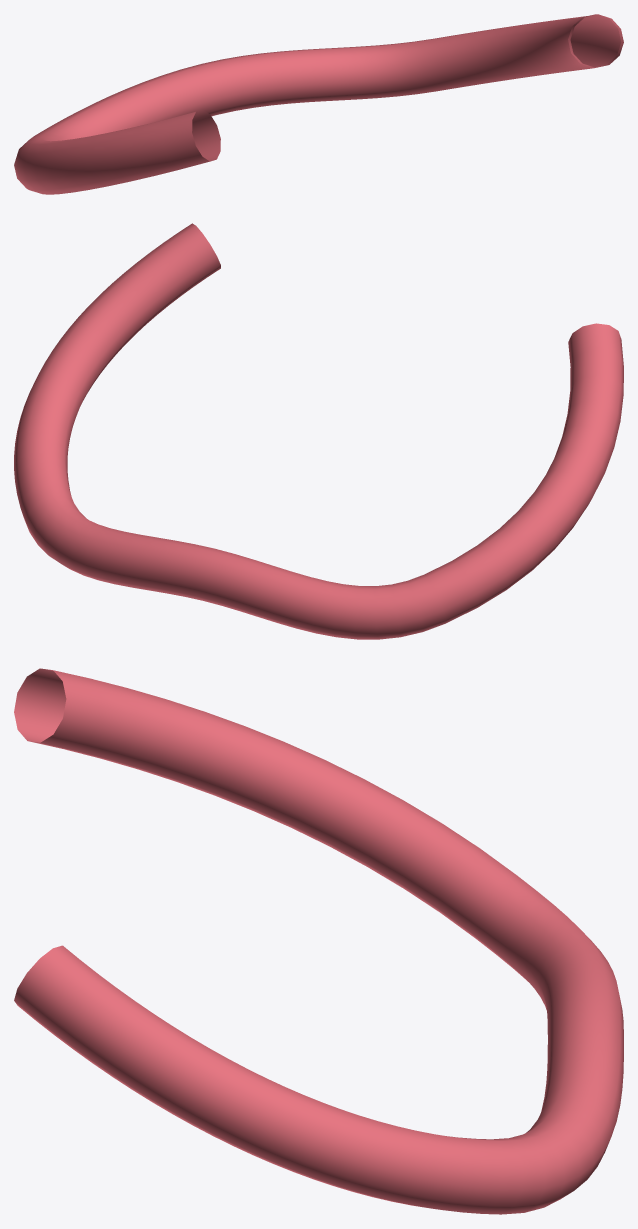
3 renders of one model, top to bottom at view 1: azimuth 30°, elevation 25°; view 2: azimuth 150°, elevation 25°; view 3: azimuth 270°, elevation 25°, orthographic. The views are drawn at different scales.
Parts seen in each view (by area): view 1: ZA_9e047f59c0c1c7b1; view 2: ZA_9e047f59c0c1c7b1; view 3: ZA_9e047f59c0c1c7b1.
Boxes of the visible parts, x1,y1,x2,y2 form: ZA_9e047f59c0c1c7b1: (14,14,623,194); ZA_9e047f59c0c1c7b1: (14,223,623,639); ZA_9e047f59c0c1c7b1: (14,668,623,1214).
Size of the model in its own units: 0.0116 by 0.00408 by 0.00799.
